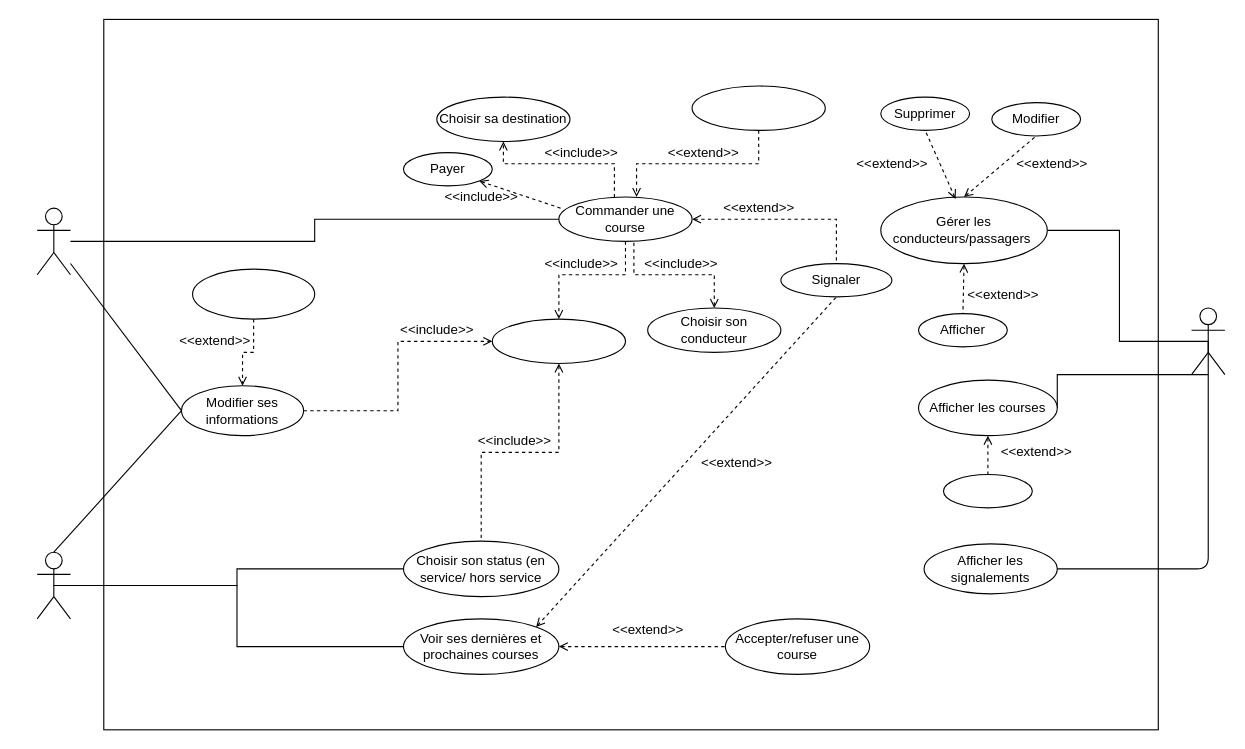
The diagram is 1245 pixels wide and 749 high, and some of its shapes have lost their labels. Each missing label, with the centre of its shape:
"Admin" goes at [1207,341].
"Conducteur" goes at [53,585].
"Noter la course" goes at [758,107].
"Passager" goes at [53,241].
"Rembourser" goes at [987,490].
"S'authentifier" goes at [558,341].
"Se désinscrire" goes at [253,293].
